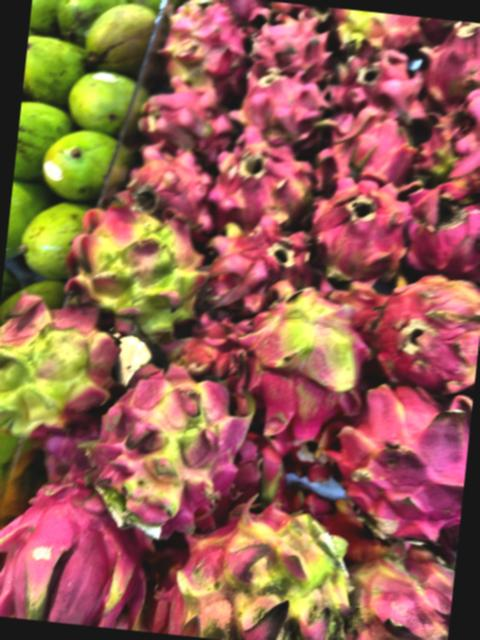buah-naga-belum-matang: (78, 356, 266, 529), (158, 497, 365, 640), (234, 269, 374, 436), (61, 196, 214, 334), (0, 286, 119, 433), (328, 530, 457, 640), (161, 0, 249, 95), (334, 9, 422, 51)
buah-naga-matang: (315, 370, 474, 544), (0, 468, 159, 631), (368, 263, 480, 391), (202, 207, 316, 314), (306, 166, 412, 280), (209, 132, 314, 227), (317, 104, 421, 187), (227, 68, 332, 148), (325, 43, 428, 124), (400, 177, 480, 280), (126, 142, 213, 235), (126, 84, 225, 158), (415, 82, 480, 193), (246, 13, 340, 85), (422, 19, 480, 106)
